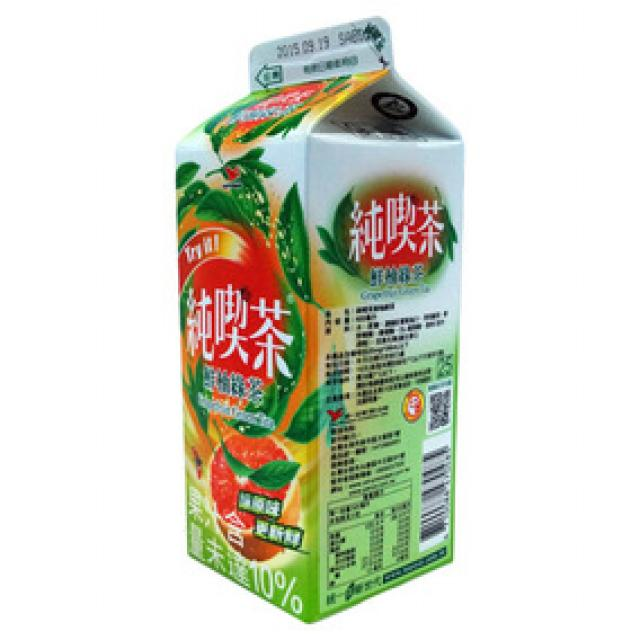non_white_jug: (170, 26, 476, 611)
